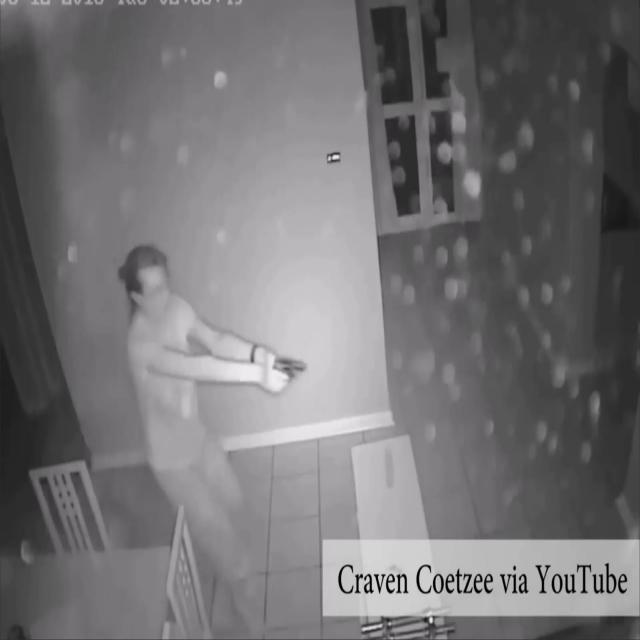gun: (270, 354, 308, 389)
